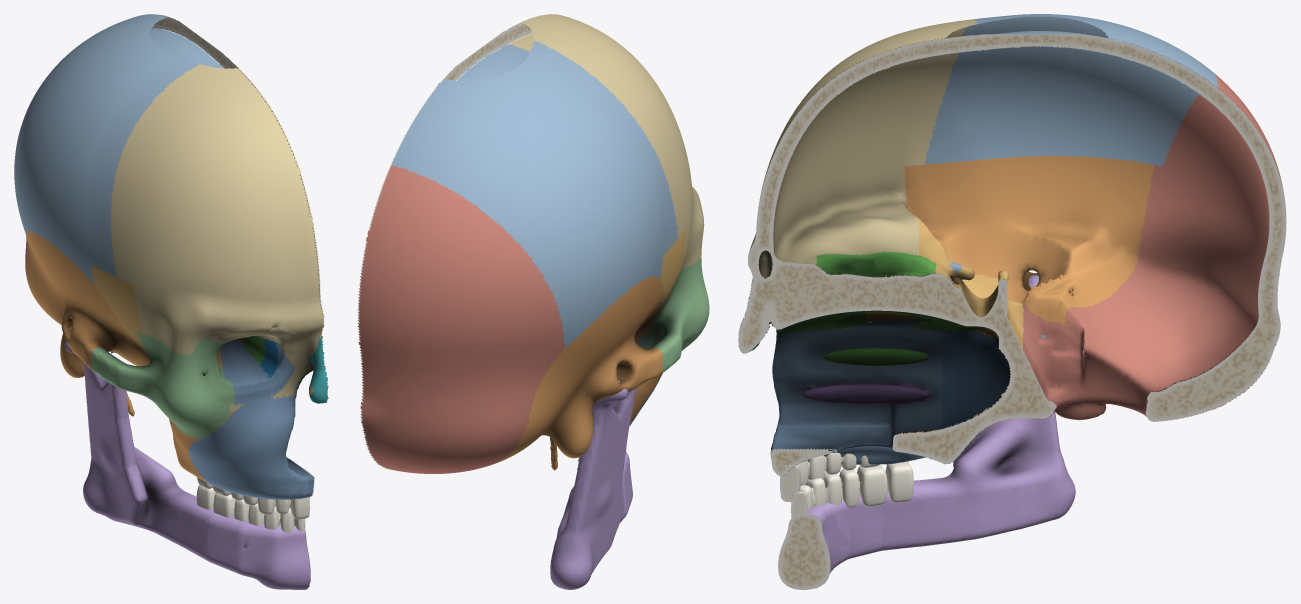
File: craneo-sagital.glb
3 renders of one model, left to right at view 1: azimuth 30°, elevation 25°; view 2: azimuth 150°, elevation 25°; view 3: azimuth 270°, elevation 25°, orthographic. The views are drawn at different scales.
Parts seen in each view (by area): view 1: frontal, parietal_R, mandible, maxilla_R, temporal_R, zygomatic_R, sphenoid, section_bone, nasal_R, lacrimal_R, ethmoid; view 2: occipital, parietal_R, temporal_R, frontal, mandible, zygomatic_R, section_bone, sphenoid; view 3: occipital, section_bone, parietal_R, temporal_R, frontal, mandible, maxilla_R, ethmoid, palatine_R, sphenoid, inferior_nasal_concha_R, tooth_lower_R_7_molar_2 (+3 smaller).
Boxes of the visible parts, x1,y1,x2,y2 form: frontal: (110, 64, 324, 412); parietal_R: (14, 14, 224, 285); mandible: (65, 341, 310, 589); maxilla_R: (188, 338, 314, 499); temporal_R: (26, 231, 234, 483); zygomatic_R: (91, 331, 234, 439); sphenoid: (91, 265, 244, 368); section_bone: (147, 14, 327, 589); nasal_R: (309, 336, 328, 403); lacrimal_R: (260, 339, 278, 378); ethmoid: (242, 336, 312, 384); occipital: (357, 165, 564, 473); parietal_R: (391, 40, 678, 349); temporal_R: (495, 275, 664, 470); frontal: (508, 14, 704, 279); mandible: (550, 380, 636, 589); zygomatic_R: (642, 228, 709, 372); section_bone: (358, 14, 578, 467); sphenoid: (641, 227, 686, 335); occipital: (945, 74, 1285, 428); section_bone: (738, 34, 1286, 589); parietal_R: (923, 14, 1218, 337); temporal_R: (899, 156, 1154, 433); frontal: (748, 19, 977, 341); mandible: (778, 275, 1075, 588); maxilla_R: (770, 320, 942, 475); ethmoid: (776, 251, 977, 366); palatine_R: (930, 330, 1010, 464); sphenoid: (864, 219, 1023, 430); inferior_nasal_concha_R: (802, 380, 932, 405); tooth_lower_R_7_molar_2: (885, 461, 913, 502).
Size of the model in its own units: 0.0735 by 0.2257 by 0.2017.
